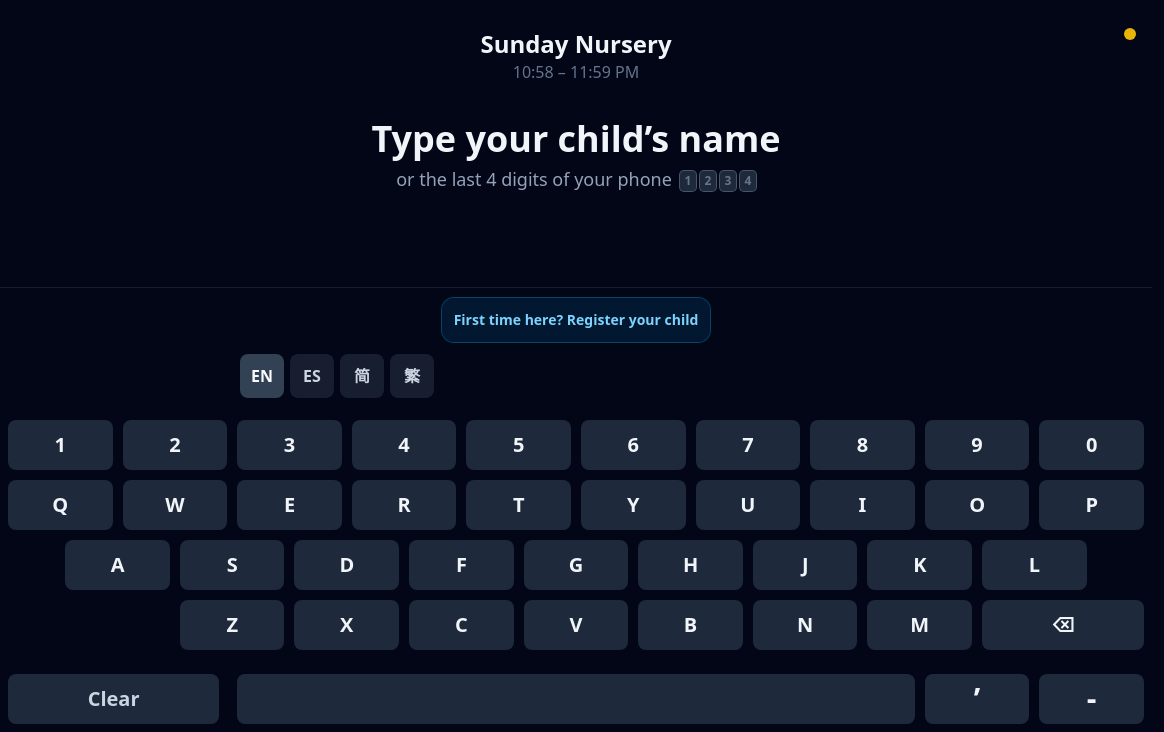
Test case: the staff menu › leads with the tags that are waiting
Press the mouse on the button "Clear" at x=114, y=699, box [8,674,219,724]
Wait 2200 ms
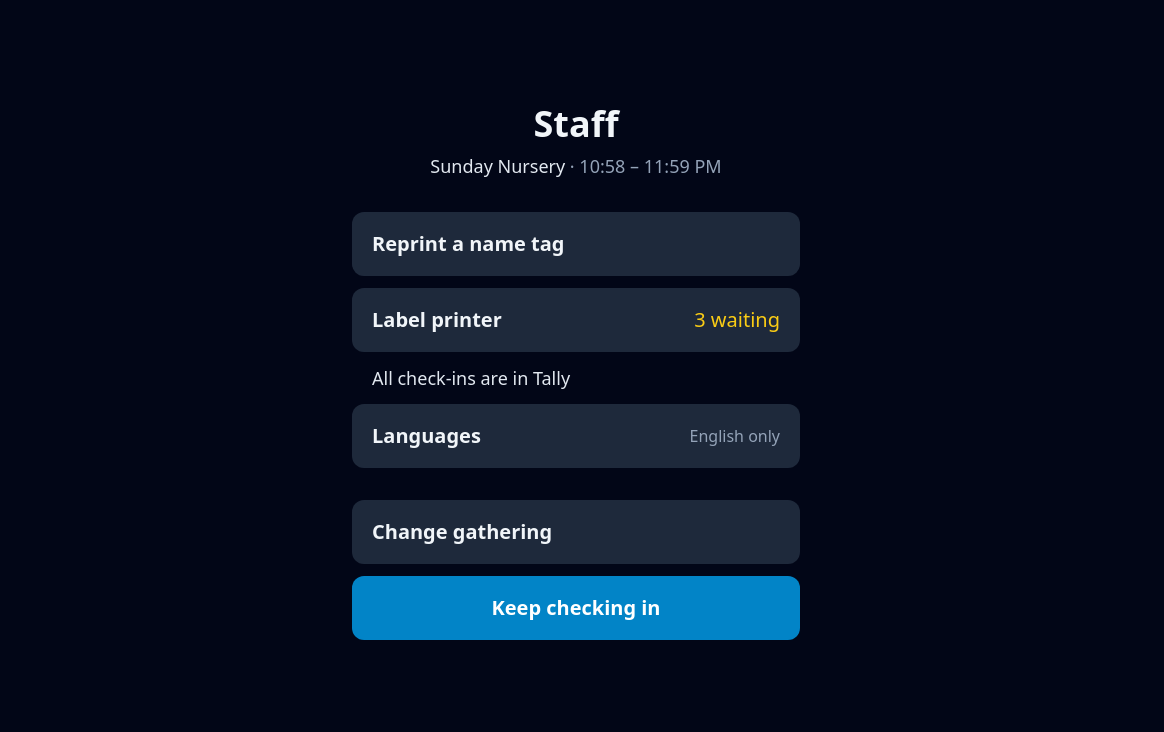
Expected: the text "3 waiting" is shown, [694,306,780,334]
